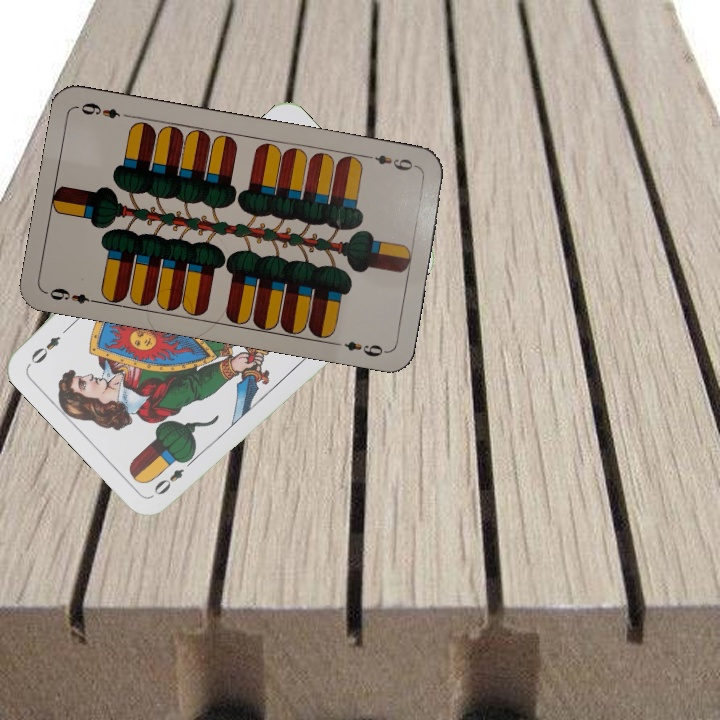E9: (362, 150, 421, 174), (43, 284, 102, 307)
EO: (149, 452, 198, 498)
